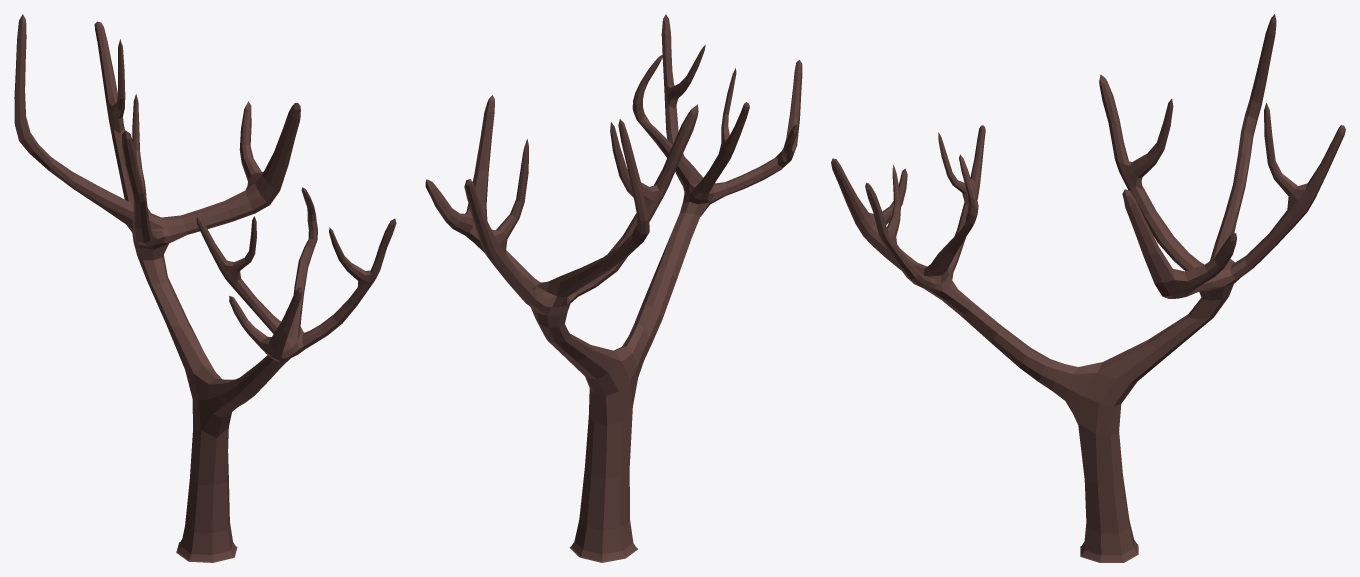
The picture shows the model from 3 angles, left to right: view 1: azimuth 30°, elevation 25°; view 2: azimuth 150°, elevation 25°; view 3: azimuth 270°, elevation 25°; orthographic projection. The views are drawn at different scales.
Parts seen in each view (by area): view 1: CommonTree_Dead_1; view 2: CommonTree_Dead_1; view 3: CommonTree_Dead_1.
Part boxes in pixels (x1,y1,x2,y2): CommonTree_Dead_1: [14, 14, 396, 562]; CommonTree_Dead_1: [425, 14, 802, 562]; CommonTree_Dead_1: [831, 14, 1345, 562].
Size of the model in its own units: 1.04 by 2.22 by 2.12.
